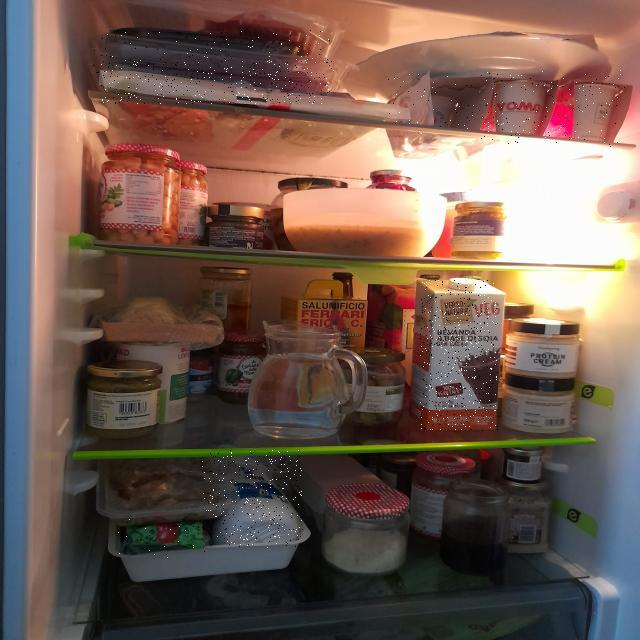cheese: (117, 518, 218, 559)
ham: (93, 30, 336, 78), (101, 59, 333, 104)
milk: (421, 280, 498, 431), (202, 450, 303, 548)
yoghurt: (388, 73, 493, 134), (478, 71, 560, 144), (558, 69, 625, 147)
